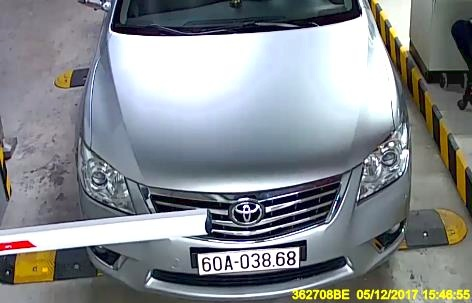plate: (191, 239, 308, 275)
